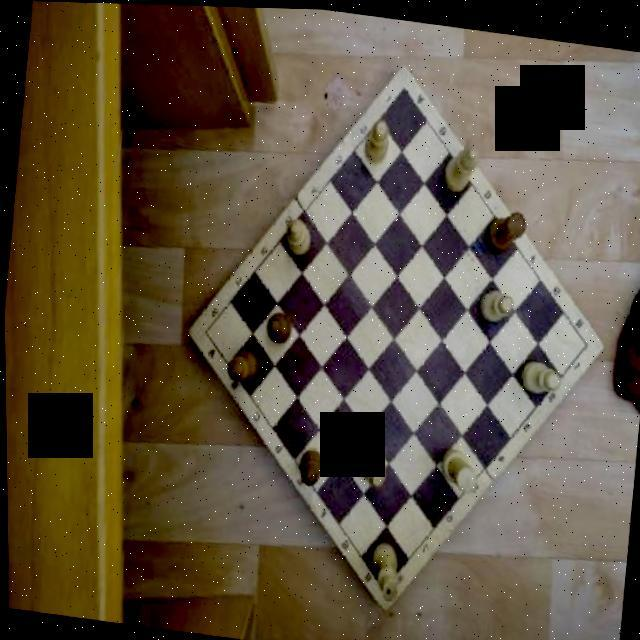chess-table-corners: (361, 560, 402, 606), (188, 306, 224, 352), (386, 63, 424, 104), (568, 317, 600, 359)
